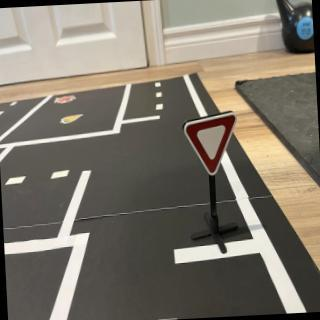sign_yield: (184, 113, 241, 179)
